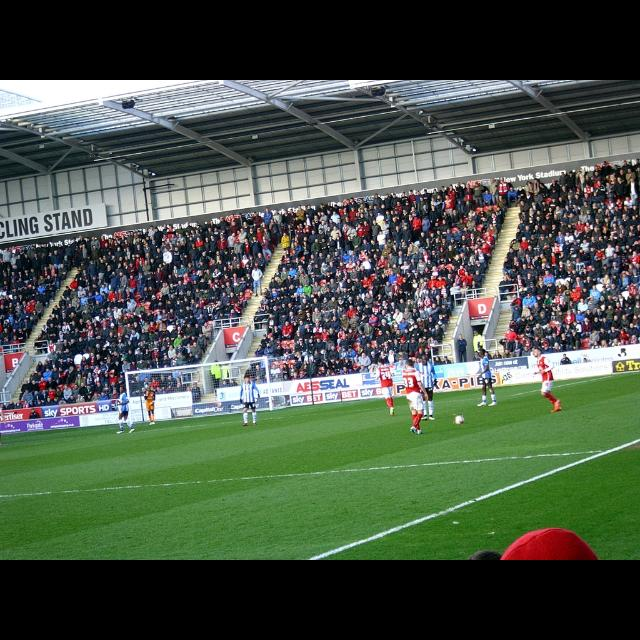Football: (453, 414, 463, 424)
